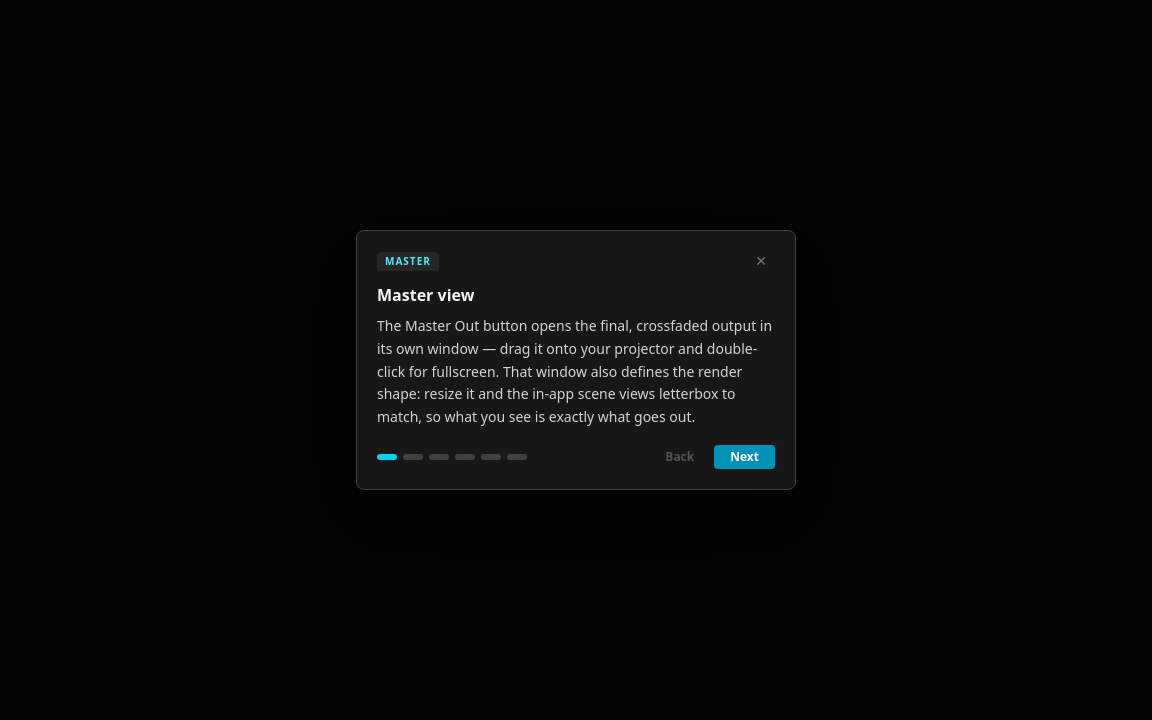
Scenario: Tutorial › jumps to a step via the progress dots
This screenshot has width=1152, height=720.
Click the button named "Step 5: Library".
click(491, 457)  # box x1=481 y1=454 x2=501 y2=460
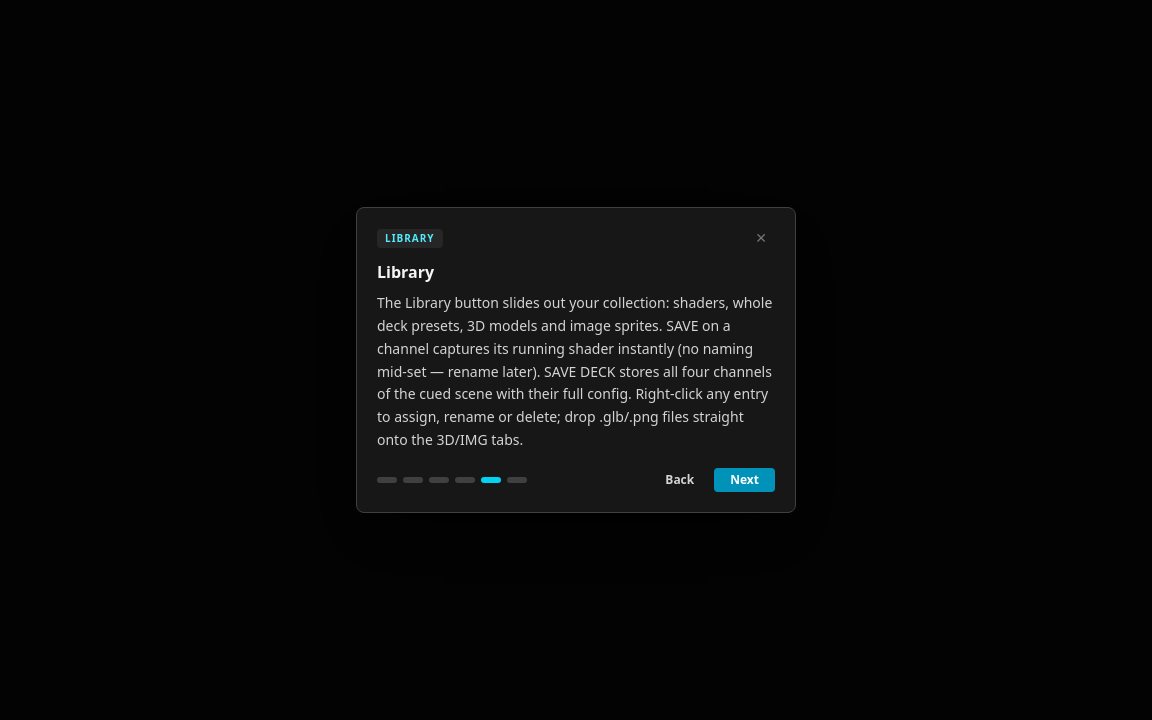
Result: the heading "Library" is shown at x1=377 y1=261 x2=434 y2=283
